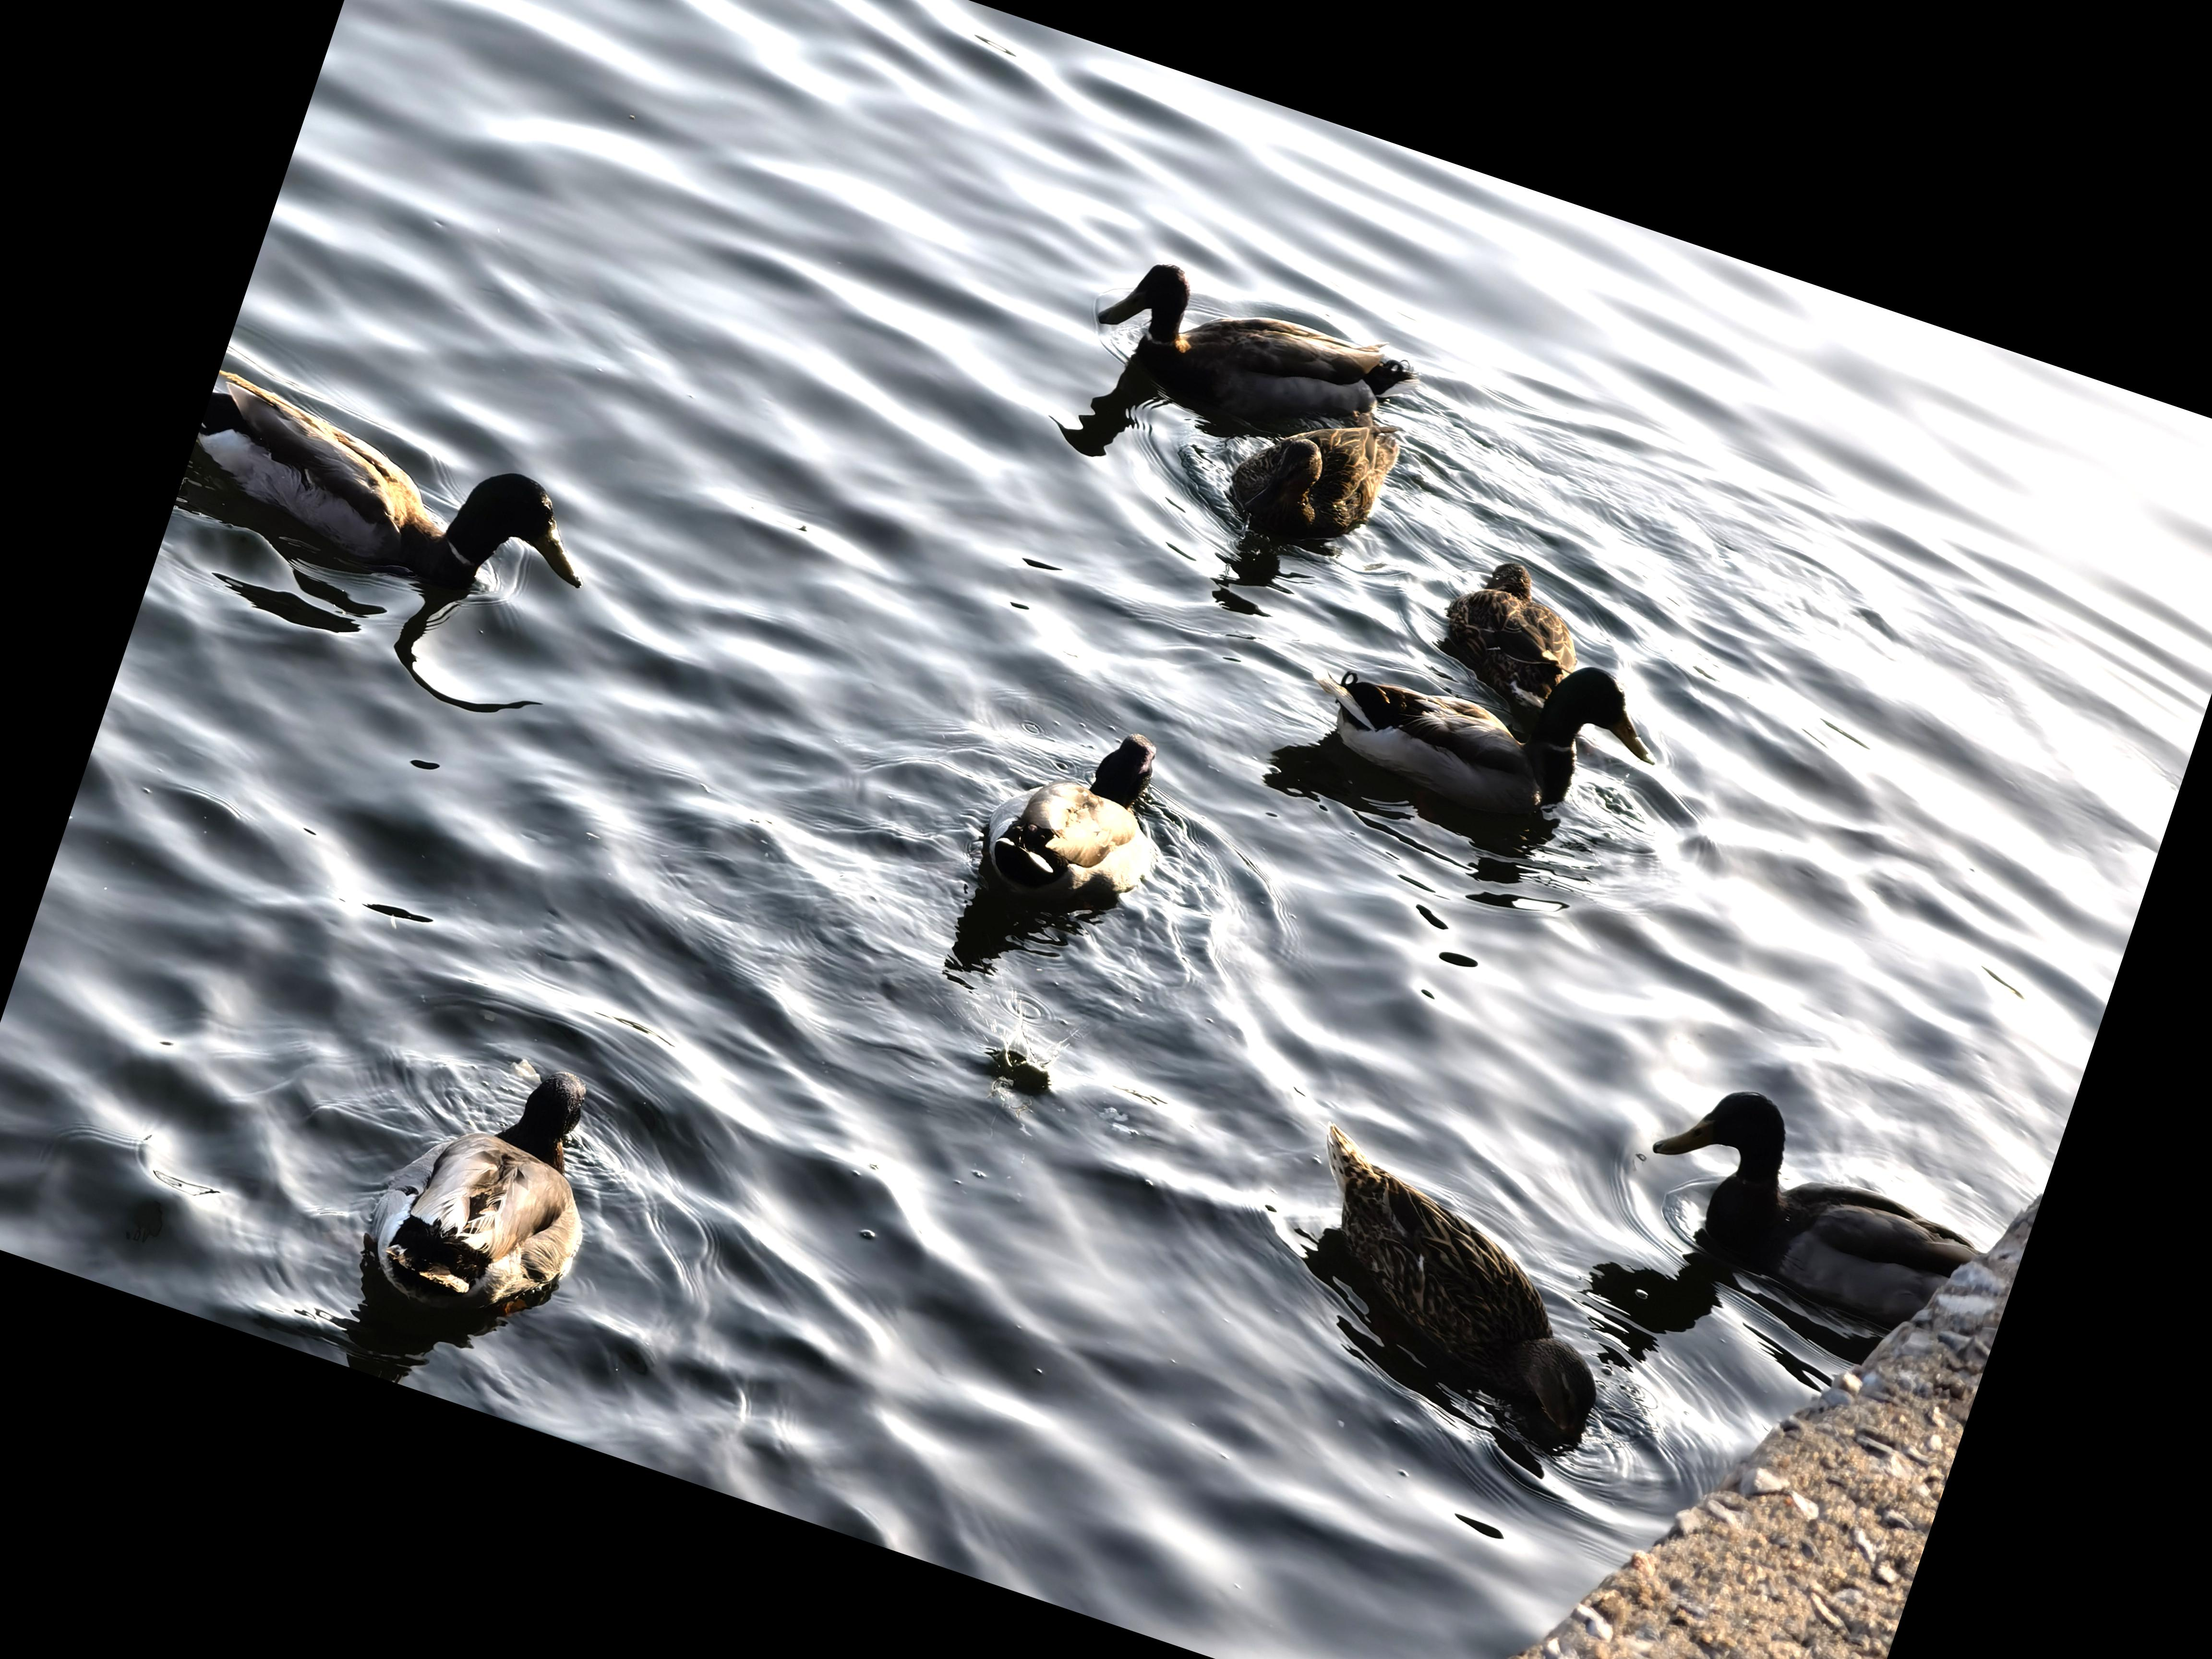duck: (1230, 1107, 1676, 1476), (164, 331, 631, 667), (300, 986, 655, 1370), (1252, 579, 1672, 887), (1613, 1060, 2017, 1354), (1055, 218, 1444, 504), (939, 683, 1190, 969), (1191, 373, 1423, 592), (1404, 542, 1606, 706)
